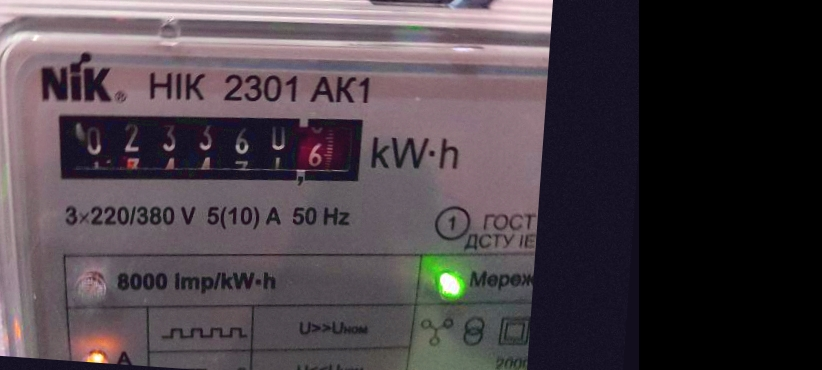0: (81, 121, 105, 157), (264, 120, 288, 152)
2: (120, 119, 142, 153)
3: (194, 117, 215, 151), (156, 120, 177, 153)
6: (229, 122, 252, 156), (303, 136, 326, 170)
screen: (37, 87, 380, 206)
